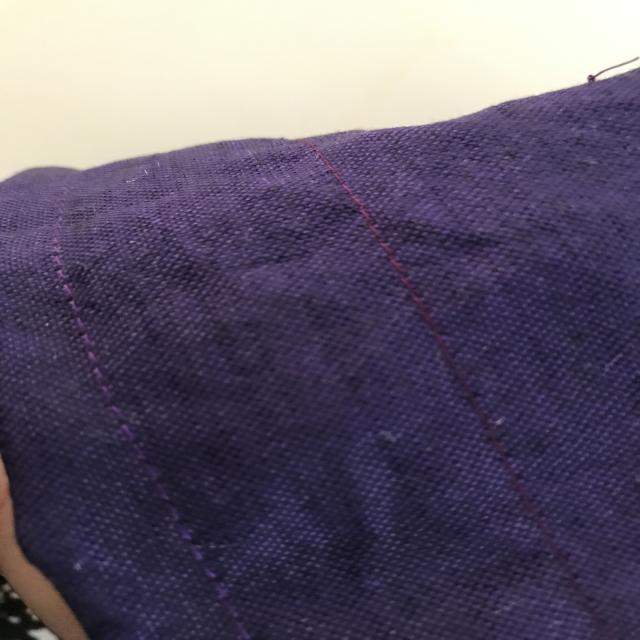good: (64, 334, 138, 426)
